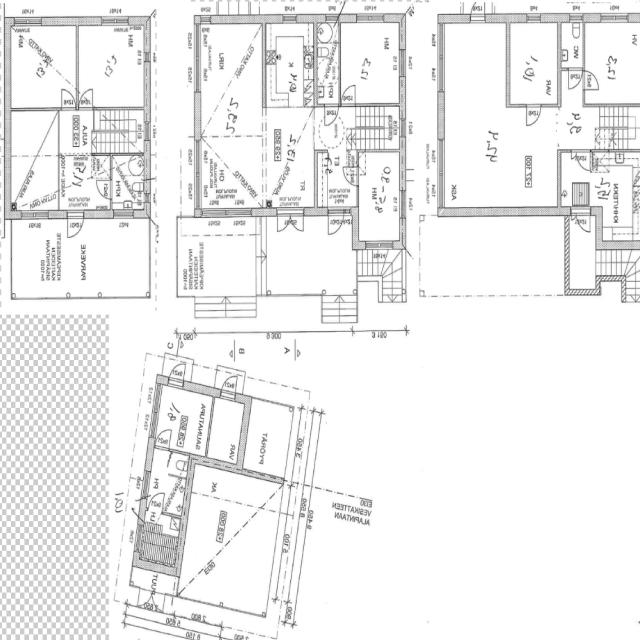door: (167, 356, 187, 389), (220, 371, 238, 401), (68, 209, 84, 240), (328, 207, 344, 236), (154, 426, 172, 451), (148, 489, 165, 515), (277, 207, 291, 234), (577, 207, 591, 233), (291, 207, 304, 234), (342, 166, 359, 186), (150, 588, 165, 610), (471, 0, 485, 23), (61, 89, 76, 110), (138, 586, 152, 608), (341, 85, 355, 107), (583, 71, 599, 90), (96, 180, 112, 199), (526, 104, 540, 125), (78, 89, 92, 110), (569, 68, 582, 89), (325, 104, 338, 125), (577, 150, 590, 170), (570, 206, 577, 224), (571, 150, 576, 160)
